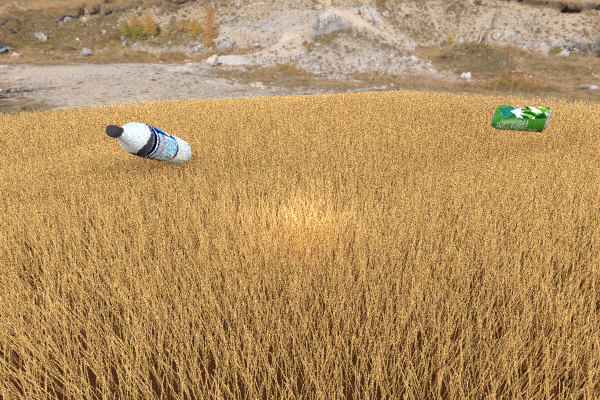Plastic Bottle: (105, 122, 191, 164), (490, 105, 551, 132)
